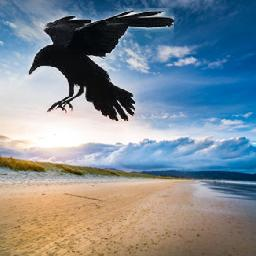Crow: (28, 9, 174, 122)
